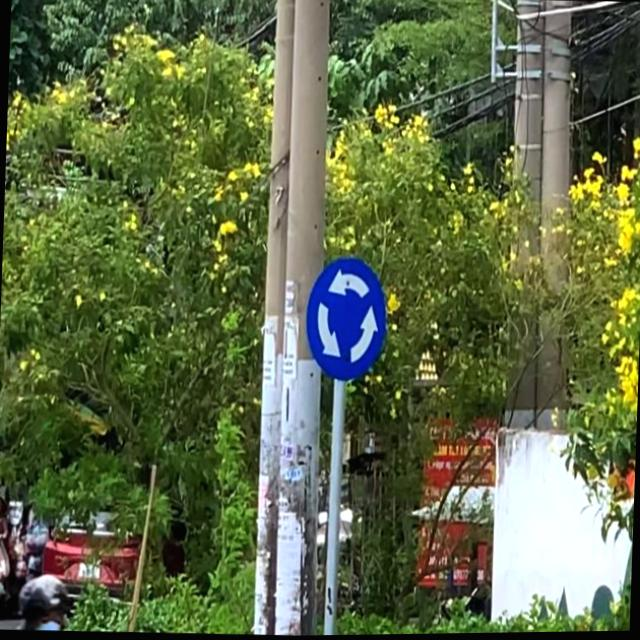Noi giao nhau chay theo vong xuyen: (302, 253, 392, 384)
